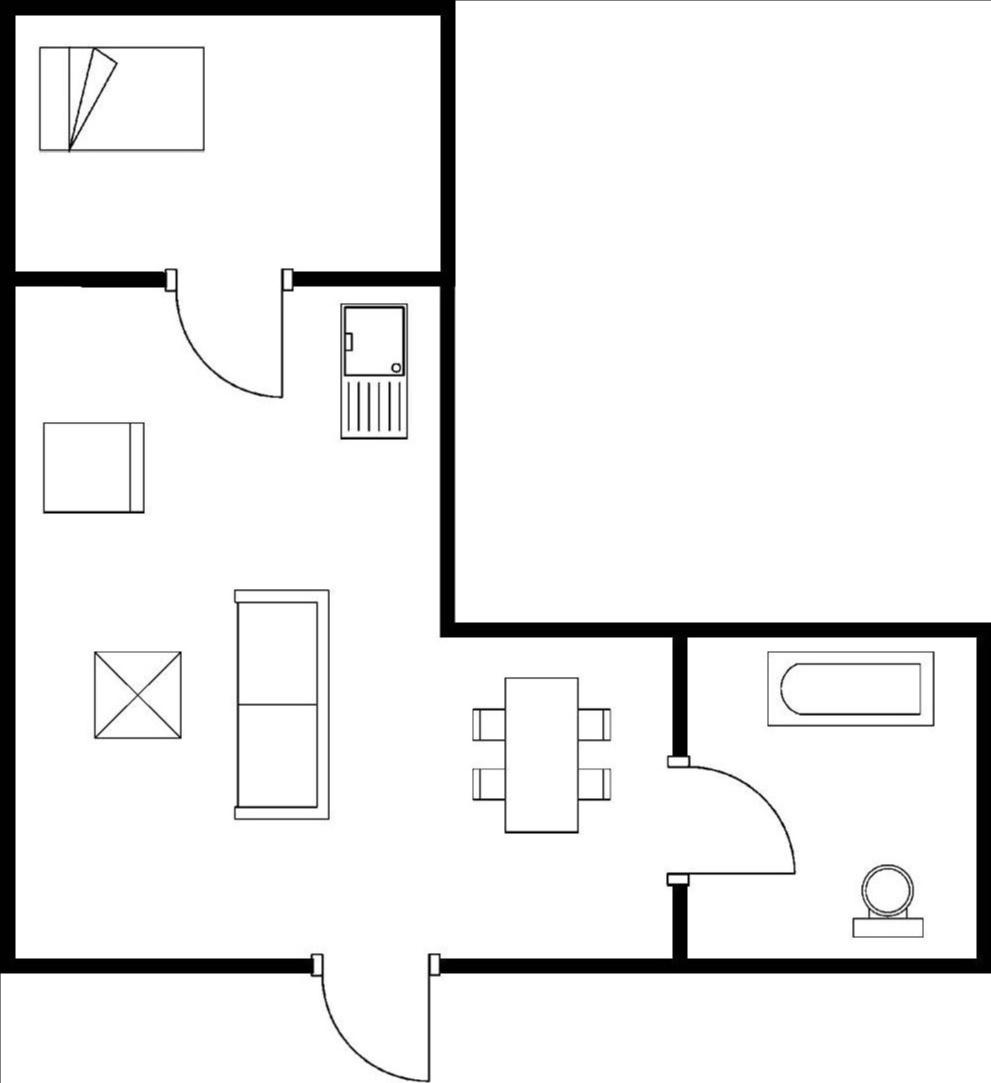bed: (34, 41, 210, 156)
dining_table: (466, 671, 619, 839)
sink: (336, 296, 417, 444)
sofa: (225, 583, 339, 826)
toilet: (847, 856, 930, 941)
tub: (761, 643, 942, 733)
